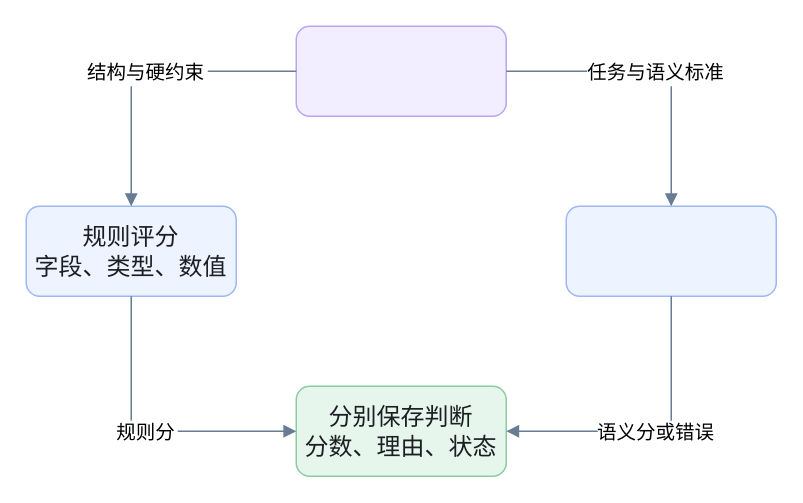
Image size: 803x503. Some labels were removed from this diagram. Here are the shapes that lost their labels. From the top down, the centre of each, then its label:
At [400,70]: "一次回答与参考 DeepEval 样本".
At [670,250]: "G-Eval 裁判 解释是否完整正确".
